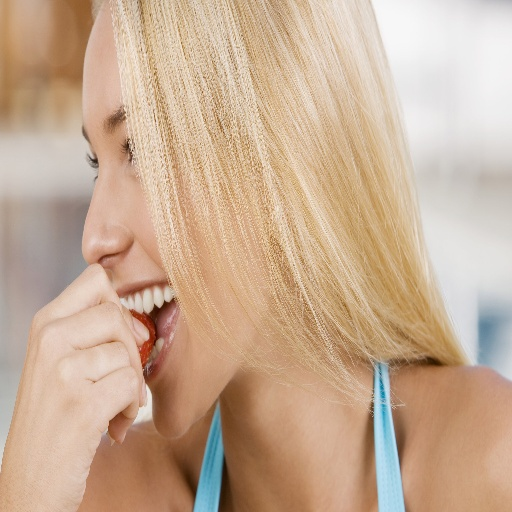hand: (10, 248, 153, 483)
